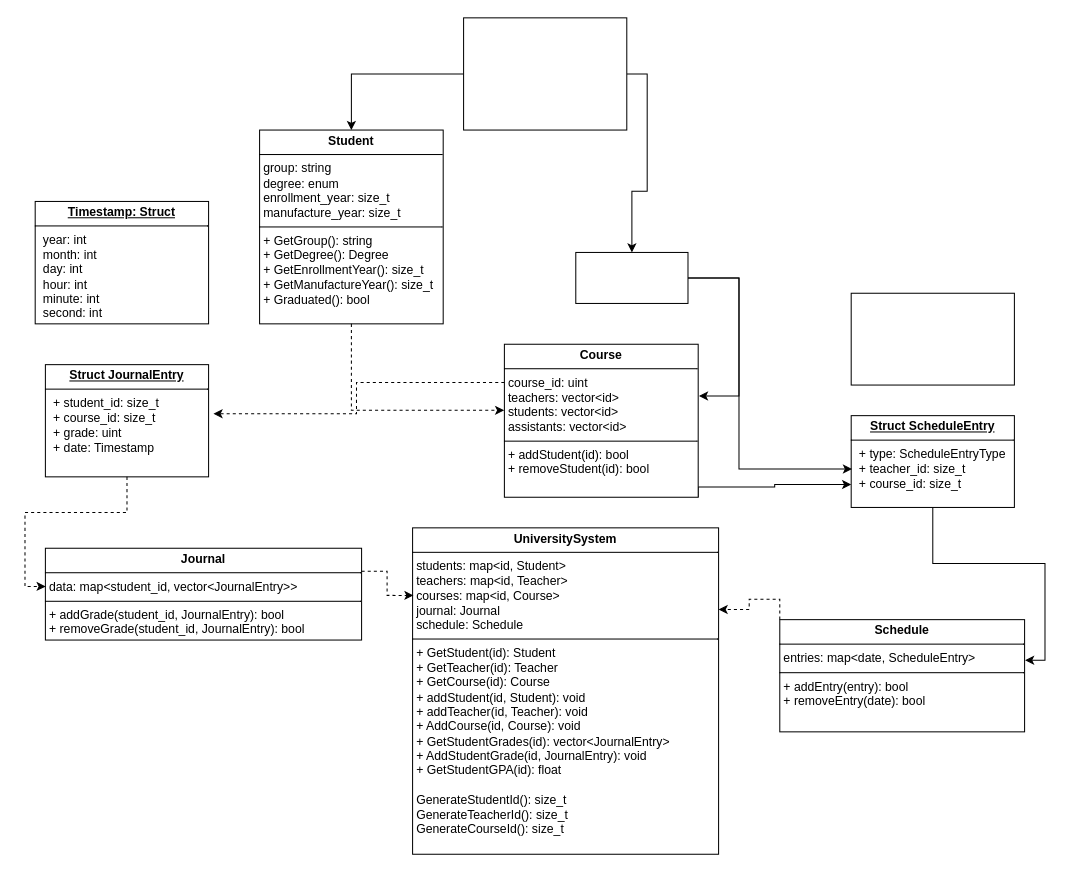
Some shapes in this 1071 by 872 pixel diagram are drawn without their labels. Each missing label, with the box of its shape:
ScheduleEntryType: enum Lecture Seminar Practice: (850, 292, 1014, 385)
Teacher: (575, 251, 688, 303)
User id: size_t name: stirng + GetId(): size_t + GetName(): string: (463, 17, 627, 130)
